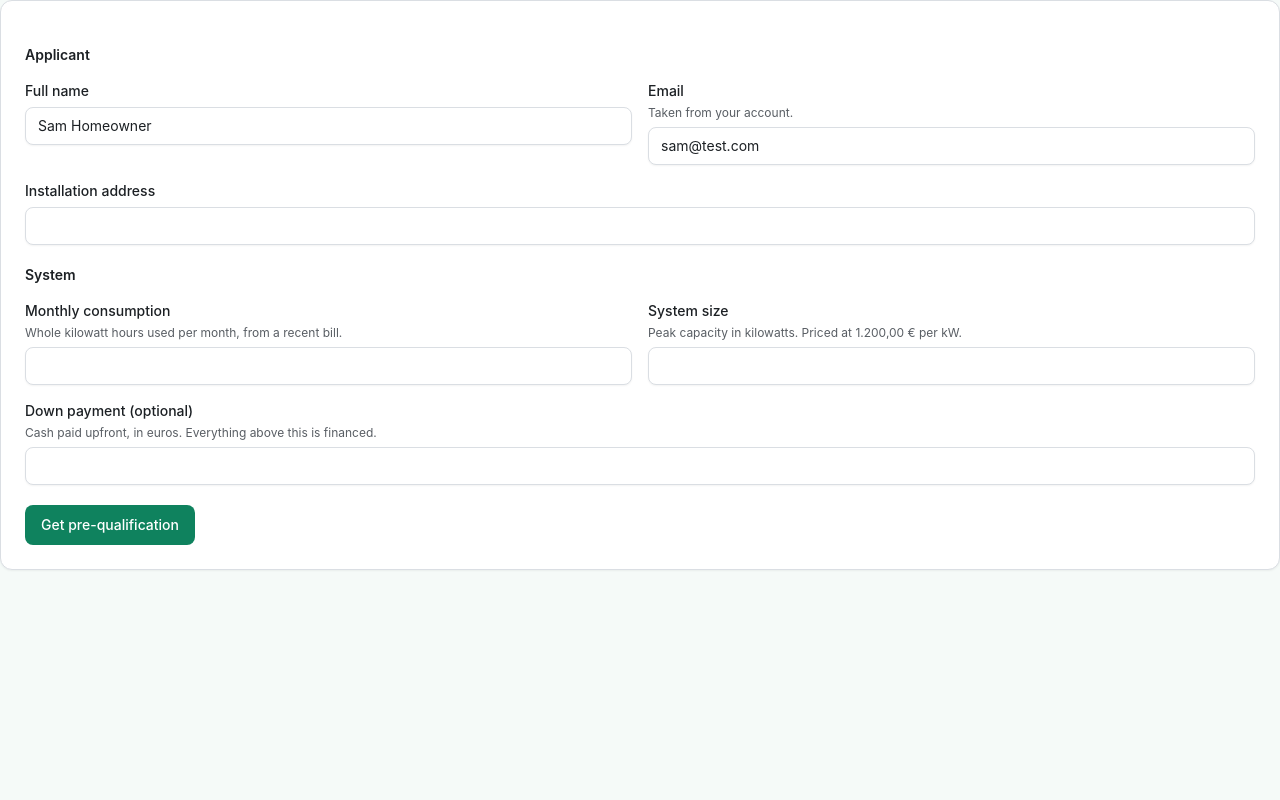
QuoteForm › previews the system price as the size is typed
Type "6" into the number field labelled "System size" at (952, 366), box [648,347,1255,385]
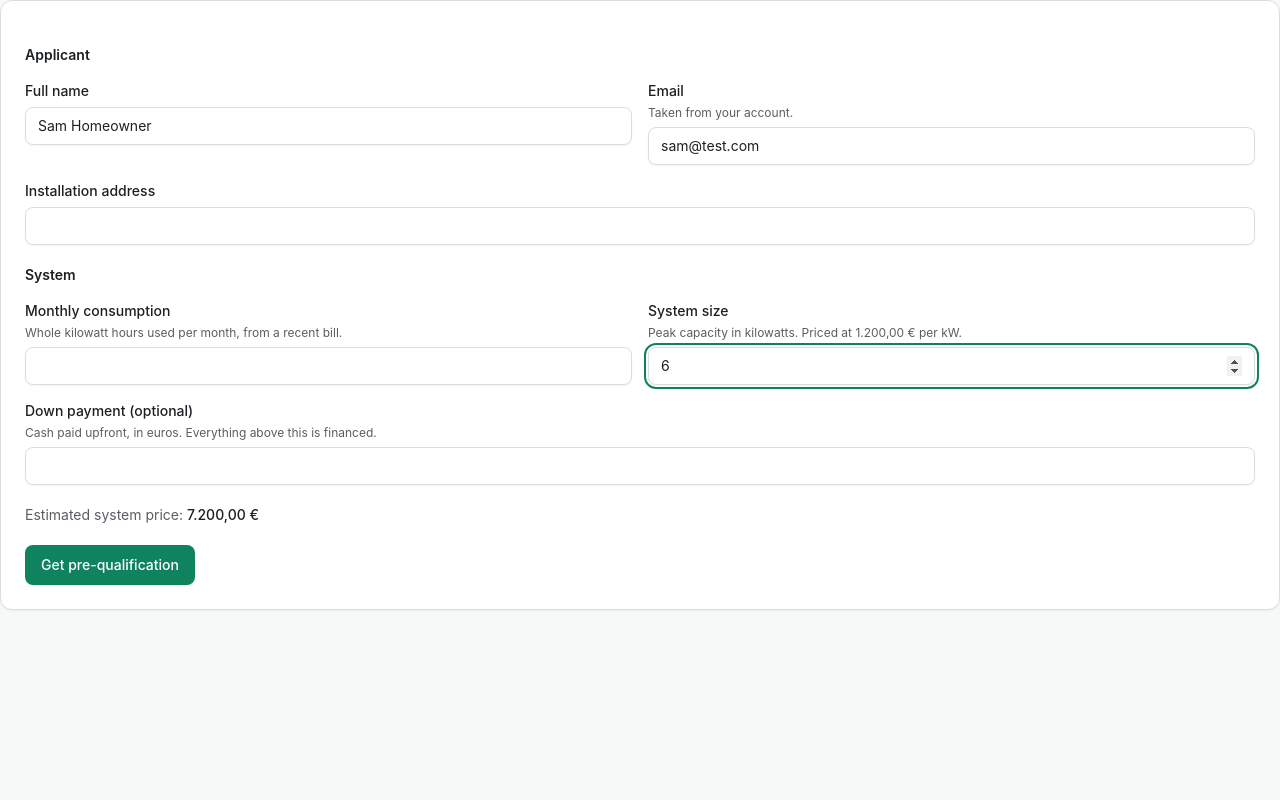
Check: the text "7.200,00 €" is shown, box [187,506,259,523]
